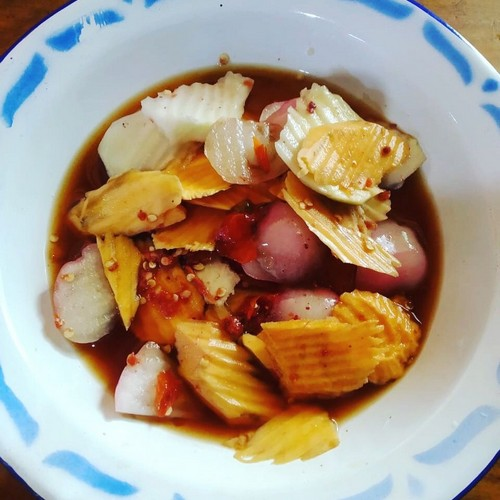rujak buleleng: (59, 78, 412, 420)
